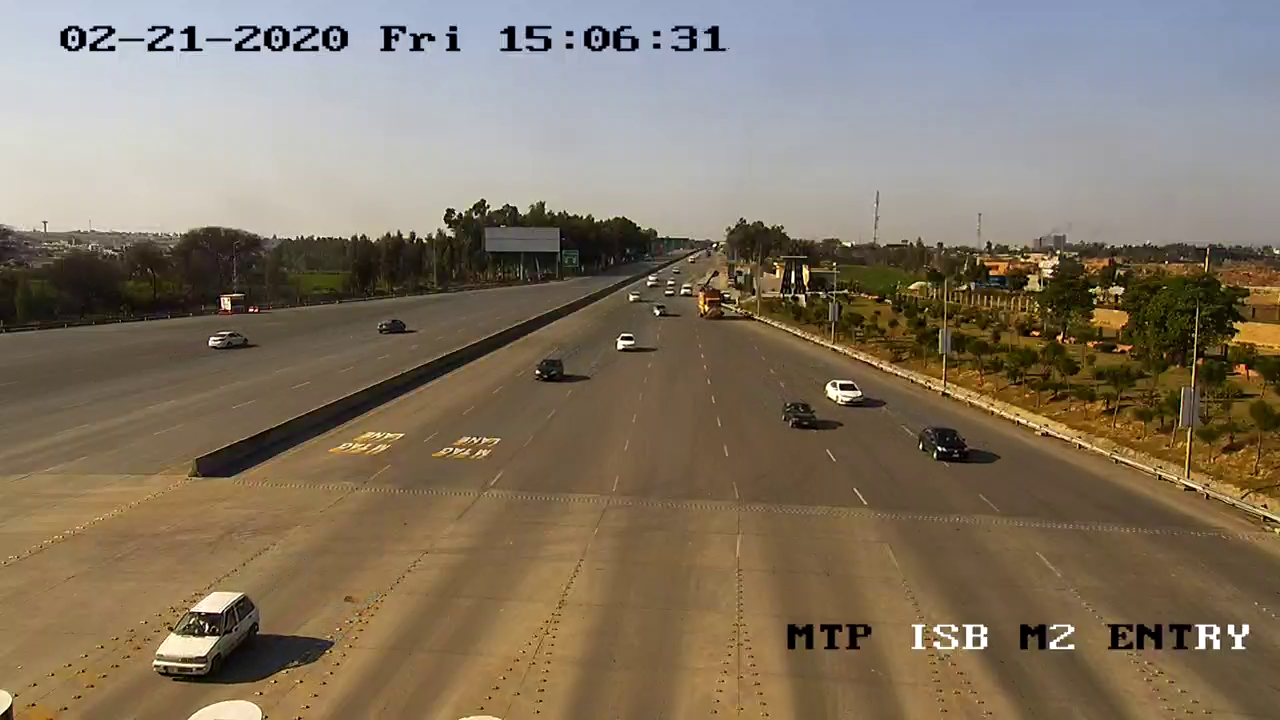f1: (147, 575, 271, 689), (908, 415, 977, 474), (771, 389, 823, 437), (522, 348, 572, 392), (818, 373, 871, 413)
